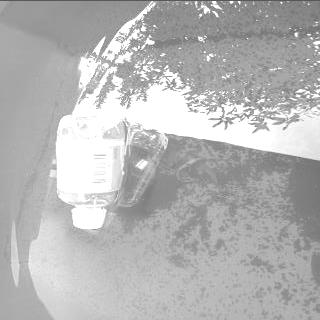bottle: (54, 114, 128, 228)
